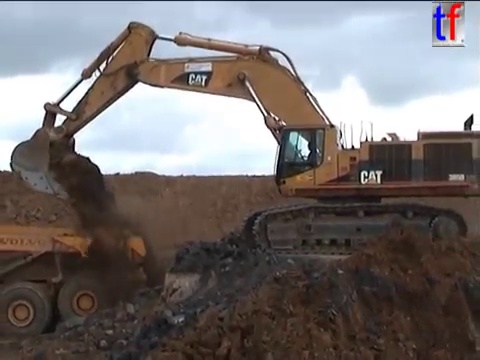excavator: (7, 19, 480, 260)
truck: (1, 221, 150, 341)
